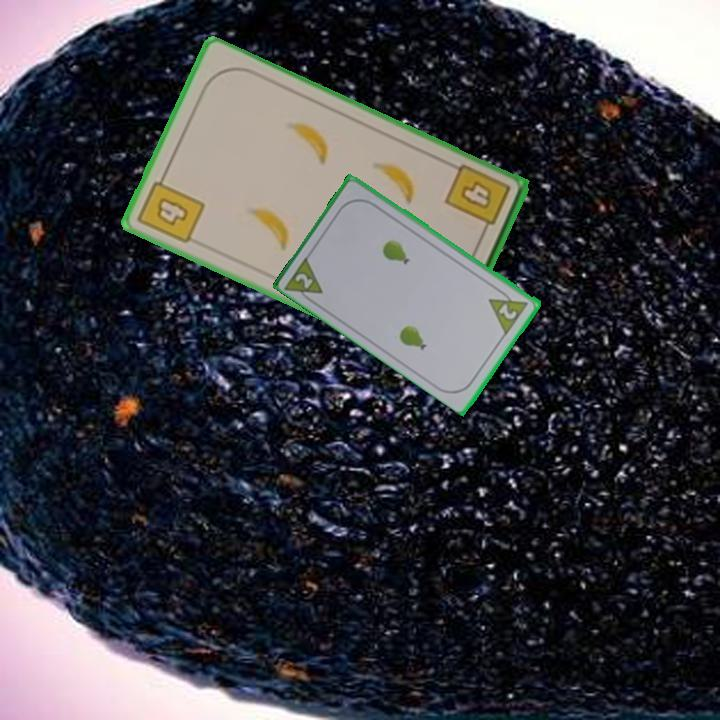2p: (282, 251, 326, 308), (485, 284, 532, 337)
4b: (133, 168, 208, 247), (441, 160, 513, 240)
